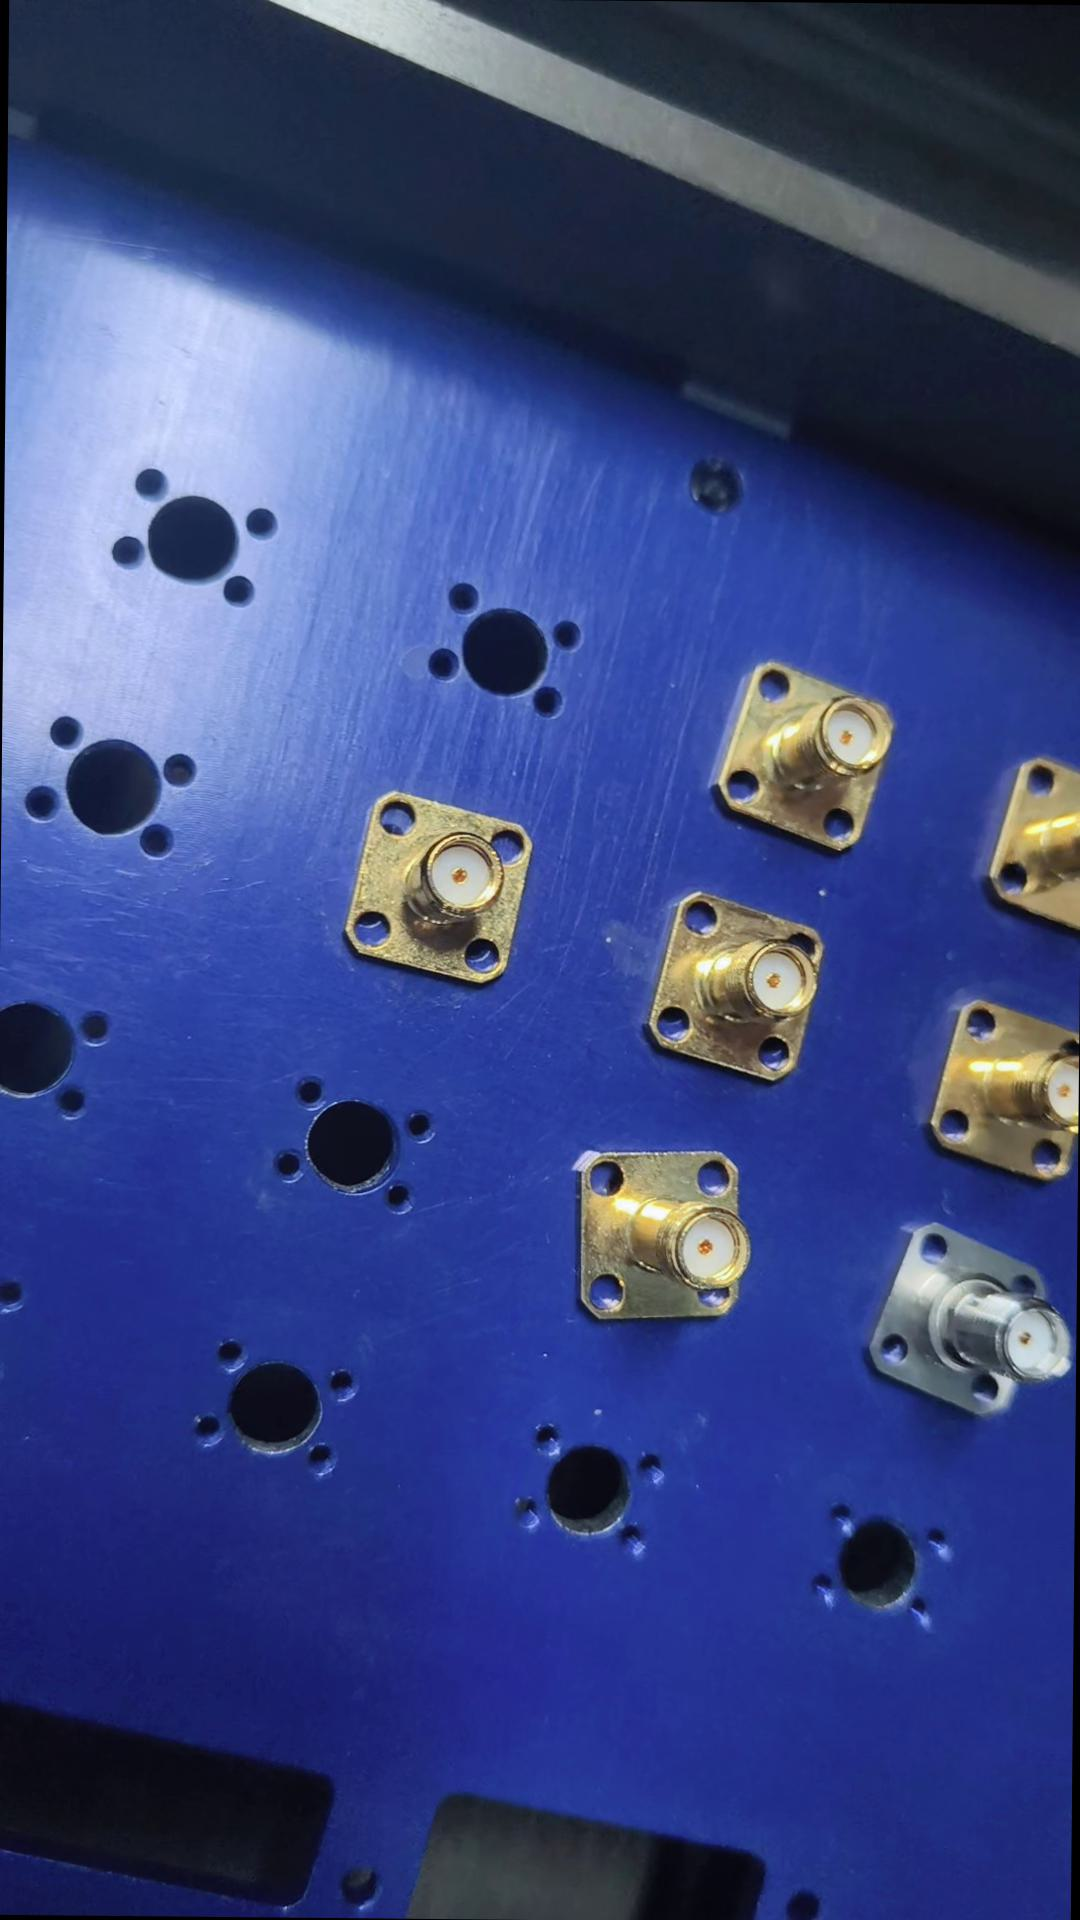SMA: (860, 1215, 1068, 1423), (703, 655, 885, 869), (342, 786, 527, 986), (644, 880, 819, 1087), (560, 1145, 745, 1325), (918, 996, 1077, 1182)
